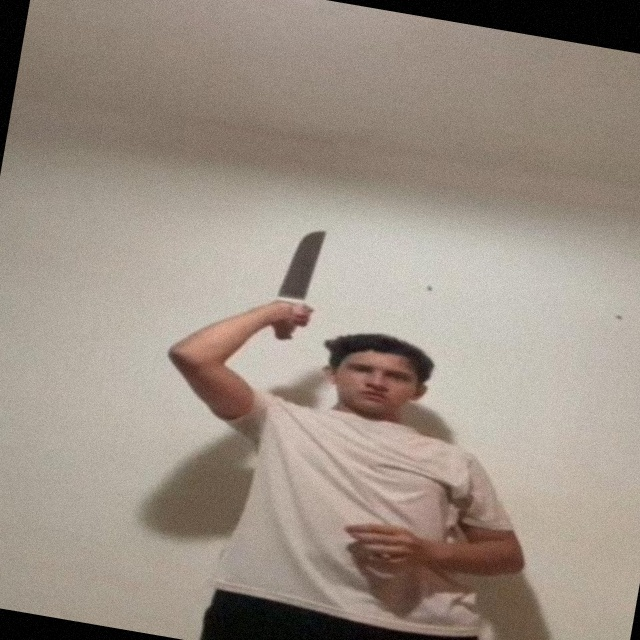Sharp-Object: (278, 224, 331, 300)
